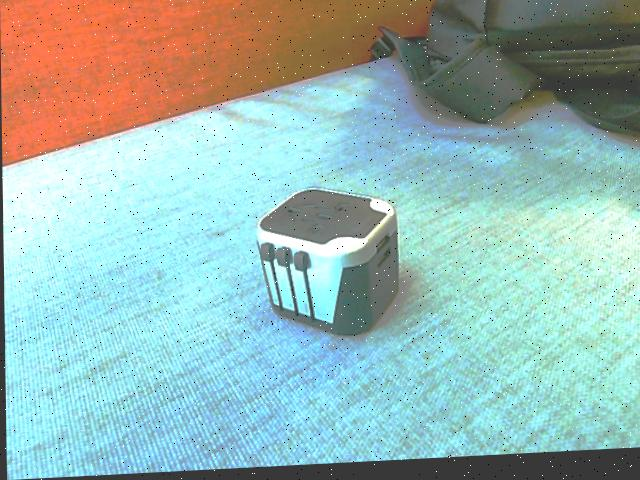adapter: (253, 187, 399, 343)
